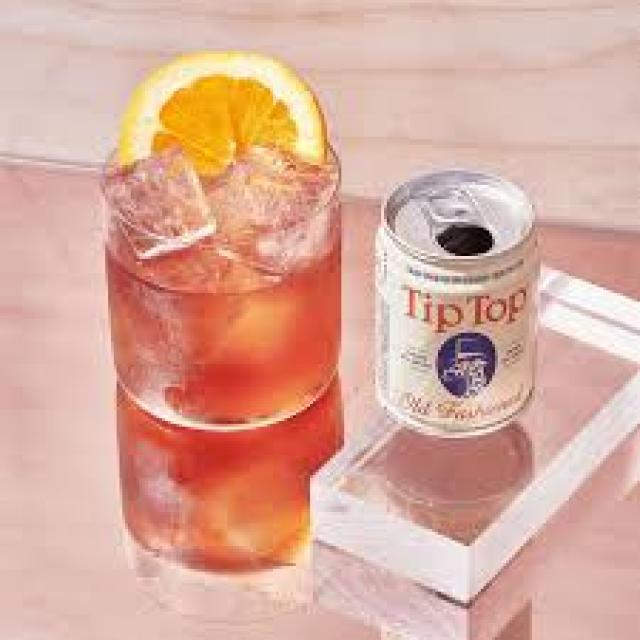Cans: (364, 162, 549, 432)
